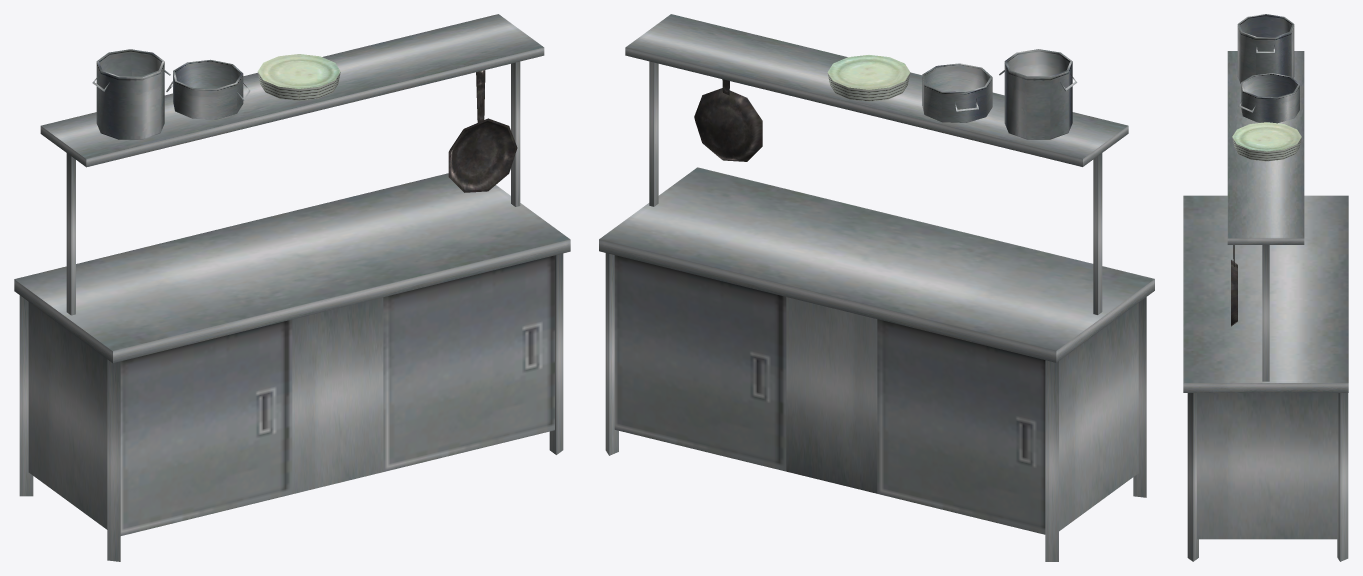
File: diner_kitchen_table_shelf.fbx
3 renders of one model, left to right at view 1: azimuth 30°, elevation 25°; view 2: azimuth 150°, elevation 25°; view 3: azimuth 270°, elevation 25°, orthographic. The views are drawn at different scales.
Parts seen in each view (by area): view 1: mesh_0, mesh_1; view 2: mesh_0, mesh_1; view 3: mesh_0, mesh_1.
Part boxes in pixels (x1=…): mesh_0: x1=14, y1=14, x2=570, y2=561; mesh_1: x1=92, y1=49, x2=517, y2=192; mesh_0: x1=599, y1=14, x2=1154, y2=561; mesh_1: x1=694, y1=49, x2=1077, y2=161; mesh_0: x1=1183, y1=51, x2=1348, y2=561; mesh_1: x1=1231, y1=14, x2=1301, y2=326.
Bounding box in the file's own units: 201 × 189 × 75.
2 materials, 2 textured.
